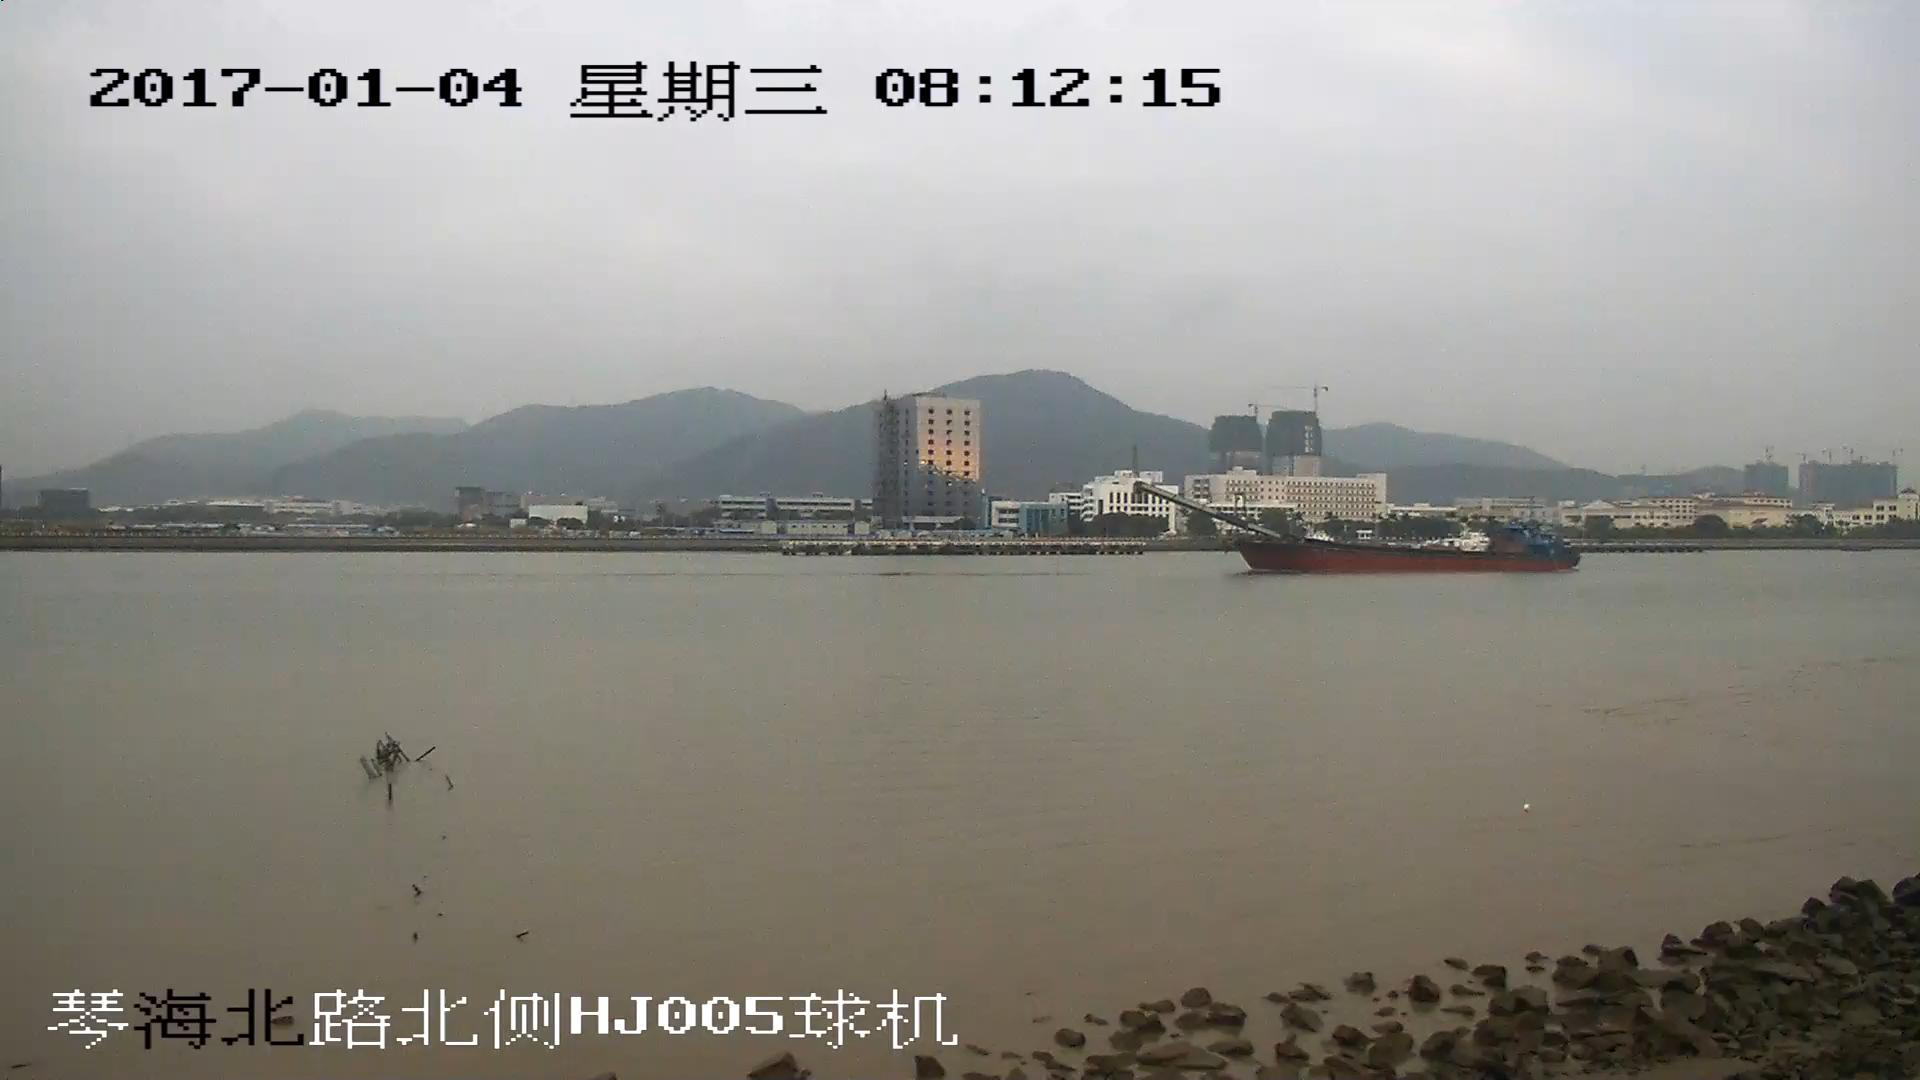Ship: (1143, 487, 1578, 574)
